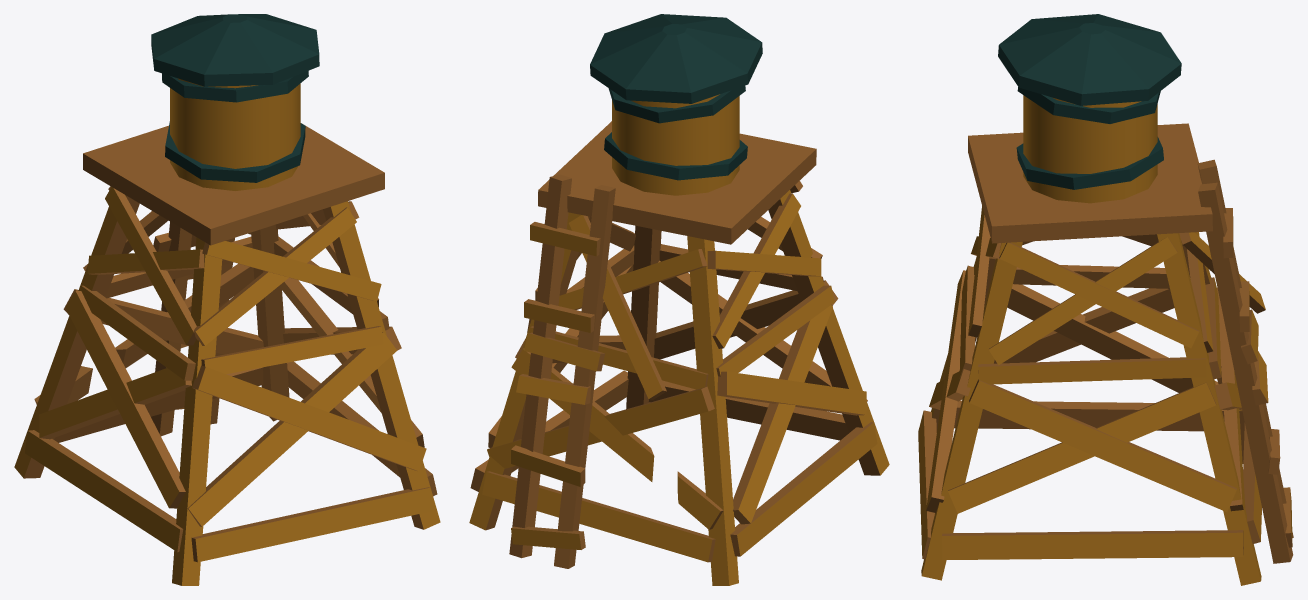
File: caixa_dagua_3.fbx
The picture shows the model from 3 angles, left to right: view 1: azimuth 30°, elevation 25°; view 2: azimuth 150°, elevation 25°; view 3: azimuth 270°, elevation 25°; orthographic projection. The views are drawn at different scales.
Parts seen in each view (by area): view 1: caixa_dagua_3; view 2: caixa_dagua_3; view 3: caixa_dagua_3.
Boxes of the visible parts, box(x1,y1,x2,y2) form: caixa_dagua_3: box(14, 14, 440, 585); caixa_dagua_3: box(469, 14, 889, 585); caixa_dagua_3: box(918, 14, 1293, 585).
Bounding box in the file's own units: 649 × 1104 × 750.
